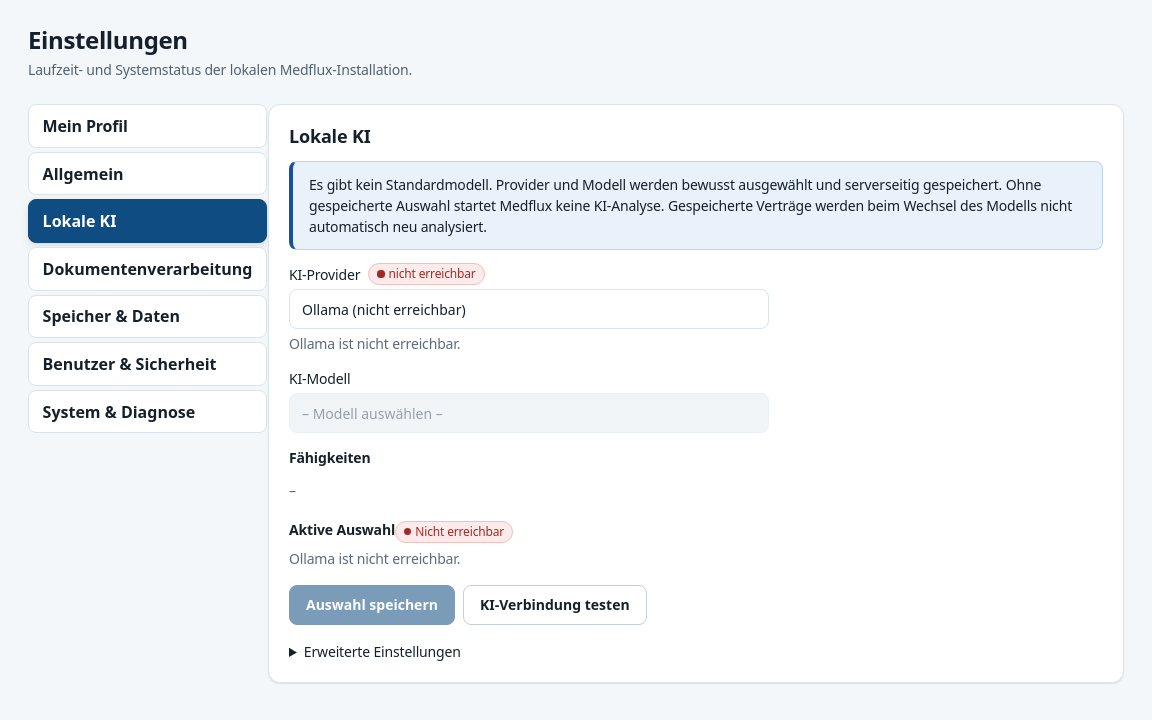
it: Einstellungen: KI-Test error-path ehrlich und terminiert › zeigt beim Test-Fehler das ehrliche Fehler-Banner statt Dauerladen
Check: the text "Nicht erreichbar" is shown, box [395,520,513,543]
Click the button "KI-Verbindung testen": (555,606) [463,586,647,626]
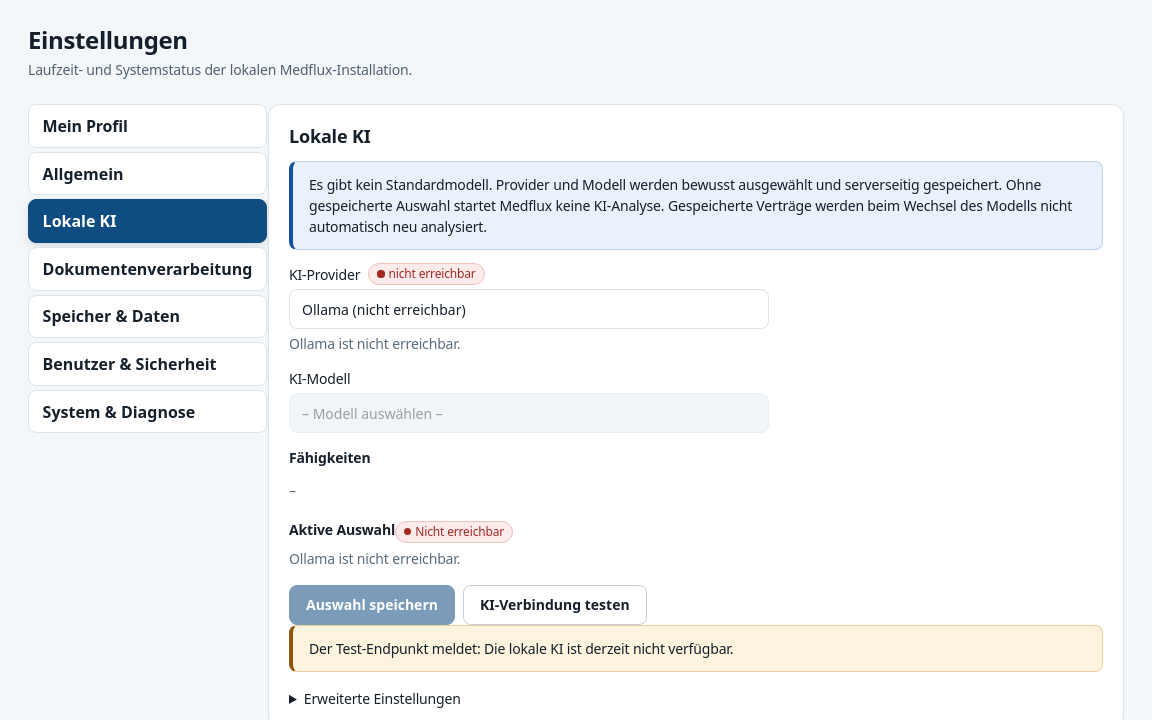
Check: the text "Der Test-Endpunkt meldet: Die lokale KI ist derzeit nicht verfügbar." is shown, box [309,638,733,660]
